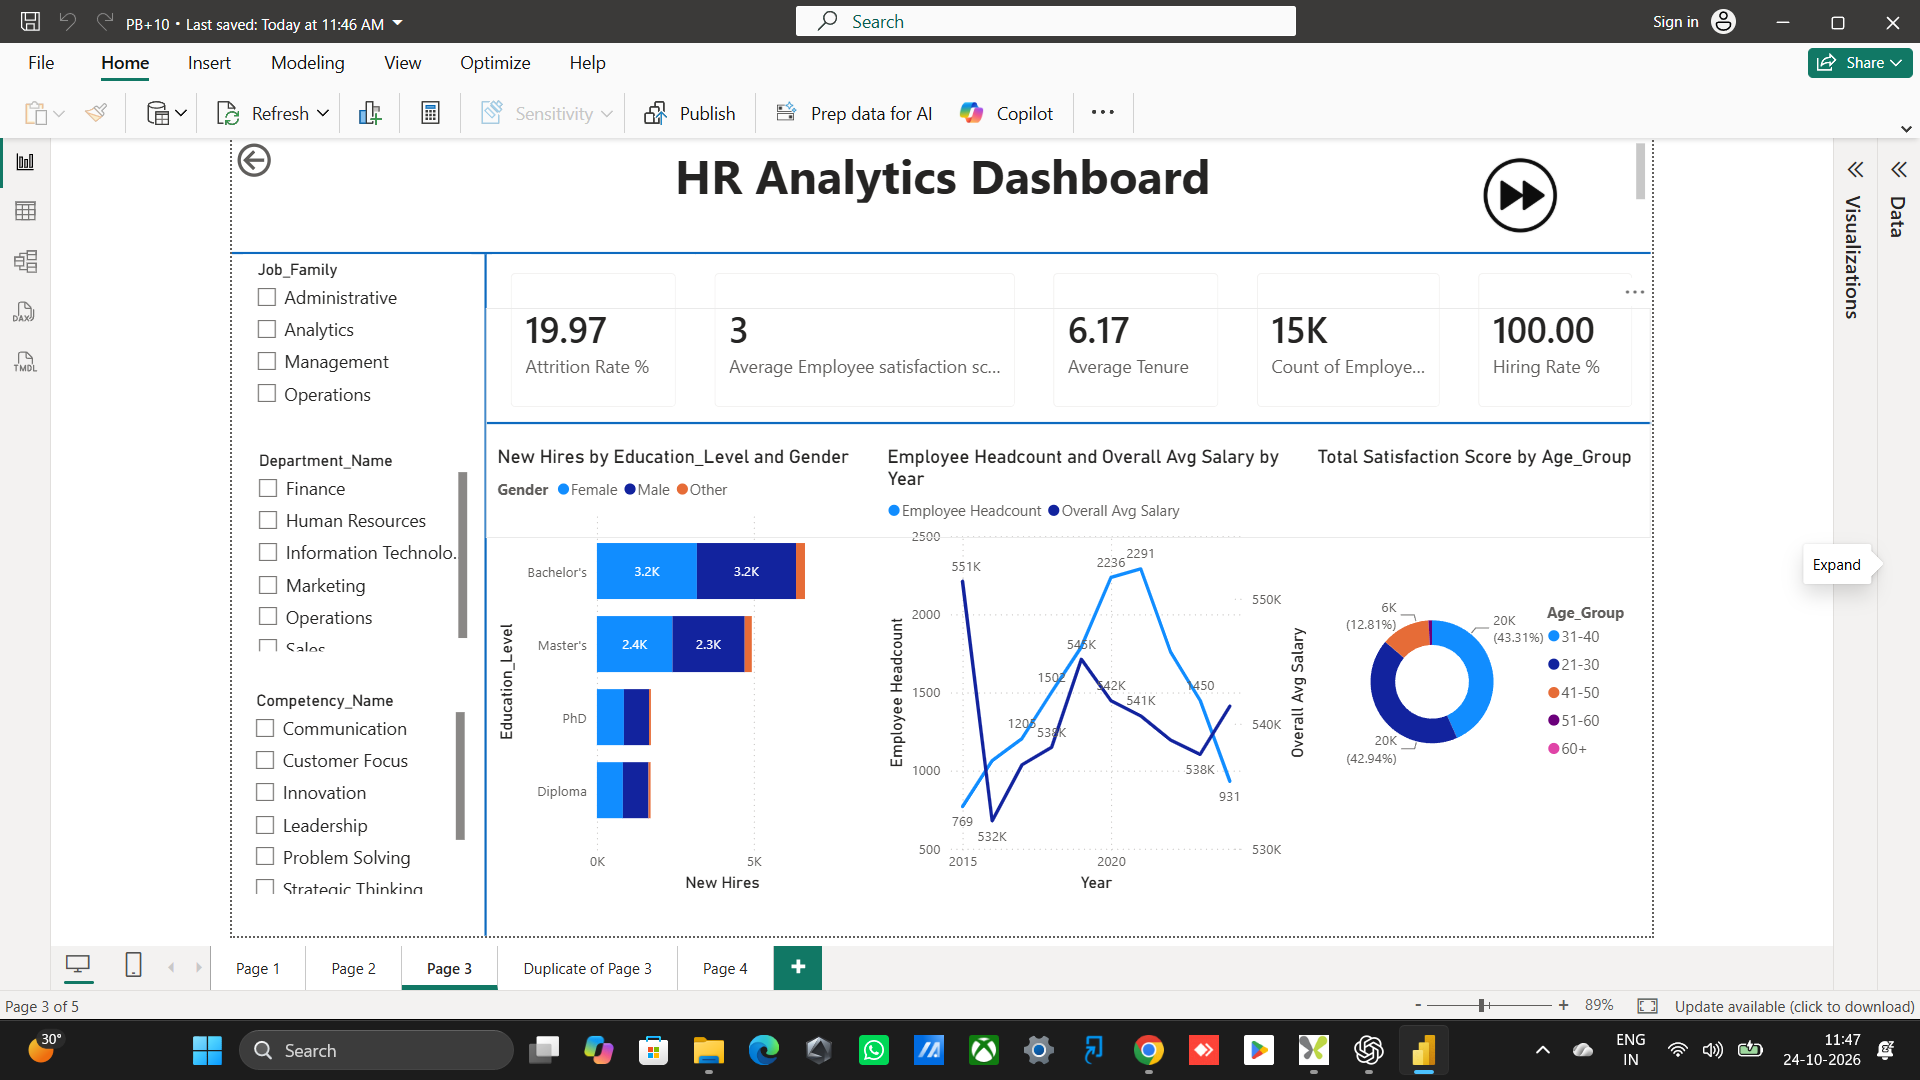

The page's visual inventory and layout, read from the dashboard file:
{"tool":"powerbi","page":{"name":"Page 3","canvas":[1280,720],"ordinal":2},"visuals":[{"type":"textbox","box":[10.6,0,1268.9,63.6],"z":0},{"type":"shape","box":[0,105.2,457.3,614.8],"z":1000},{"type":"shape","box":[0,0,1279.5,207.4],"z":2000},{"type":"slicer","fields":{"Values":["Dim_JobRole.Job_Family"]},"box":[10.6,104.5,205.9,192.3],"z":3000},{"type":"slicer","fields":{"Values":["Dim_Department.Department_Name"]},"box":[11.3,277.8,206,190.9],"z":4000},{"type":"slicer","fields":{"Values":["Dim_Competency.Competency_Name"]},"box":[9.4,493.2,206,192.8],"z":5000},{"type":"cardVisual","fields":{"Data":["HR_Fact.Attrition Rate %"]},"box":[234.2,104.4,183.5,155.1],"z":6000},{"type":"cardVisual","fields":{"Data":["HR_Fact.Average Employee satisfaction score"]},"box":[417.7,104.4,305.8,155.1],"z":7000},{"type":"cardVisual","fields":{"Data":["CountNonNull(HR_Fact.Employee_ID)"]},"box":[907,104.4,199.9,155.1],"z":8000},{"type":"cardVisual","fields":{"Data":["HR_Fact.Hiring Rate %"]},"box":[1106.9,104.4,173,155.1],"z":9000},{"type":"cardVisual","fields":{"Data":["HR_Fact.Average Tenure"]},"box":[723.5,104.4,183.5,155.1],"z":10000},{"type":"barChart","fields":{"Category":["Dim_Education.Education_Level"],"Y":["HR_Fact.New Hires"],"Series":["HR_Fact.Gender"]},"box":[234.7,277.1,333.1,407.3],"z":11000},{"type":"donutChart","fields":{"Y":["HR_Fact.Total Satisfaction Score"],"Category":["HR_Fact.Age_Group"]},"box":[973.6,277.1,305.9,407.3],"z":12000},{"type":"lineChart","fields":{"Y":["HR_Fact.Employee Headcount"],"Y2":["Bridge_DeptLocation.Overall Avg Salary"],"Category":["HR_Fact.Date_of_Joining.Variation.Date Hierarchy.Year"]},"box":[586,277.1,387.6,407.3],"z":13000},{"type":"shape","box":[228.6,152.9,1050.9,207.4],"z":14000},{"type":"actionButton","box":[0,0,100,40],"z":15000},{"type":"image","box":[1088.1,9.6,148.3,82.8],"z":16000}]}

Visuals, with their boxes on the page's 1280x720 design canvas (x1, y1, x2, y2). These are canvas units, not pixel positions in the 1920x1080 screenshot, which may show the page scaled, cropped or inside an application window:
textbox: <box>11,0,1280,64</box>
shape: <box>0,105,457,720</box>
shape: <box>0,0,1280,207</box>
slicer - Dim_JobRole.Job_Family: <box>11,104,216,297</box>
slicer - Dim_Department.Department_Name: <box>11,278,217,469</box>
slicer - Dim_Competency.Competency_Name: <box>9,493,215,686</box>
cardVisual - HR_Fact.Attrition Rate %: <box>234,104,418,260</box>
cardVisual - HR_Fact.Average Employee satisfaction score: <box>418,104,724,260</box>
cardVisual - CountNonNull(HR_Fact.Employee_ID): <box>907,104,1107,260</box>
cardVisual - HR_Fact.Hiring Rate %: <box>1107,104,1280,260</box>
cardVisual - HR_Fact.Average Tenure: <box>724,104,907,260</box>
barChart - Dim_Education.Education_Level x HR_Fact.New Hires: <box>235,277,568,684</box>
donutChart - HR_Fact.Total Satisfaction Score x HR_Fact.Age_Group: <box>974,277,1280,684</box>
lineChart - HR_Fact.Employee Headcount x Bridge_DeptLocation.Overall Avg Salary: <box>586,277,974,684</box>
shape: <box>229,153,1280,360</box>
actionButton: <box>0,0,100,40</box>
image: <box>1088,10,1236,92</box>
